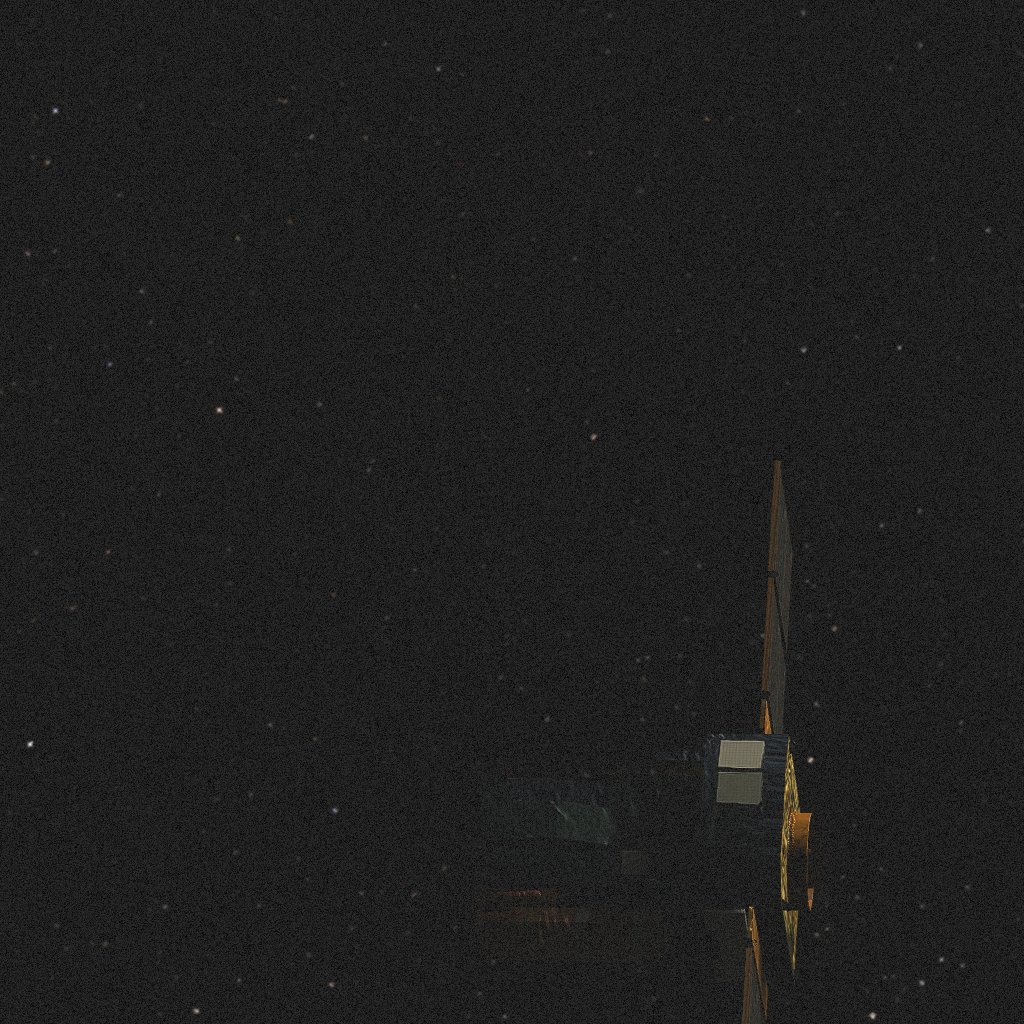soho: (473, 460, 872, 1024)
